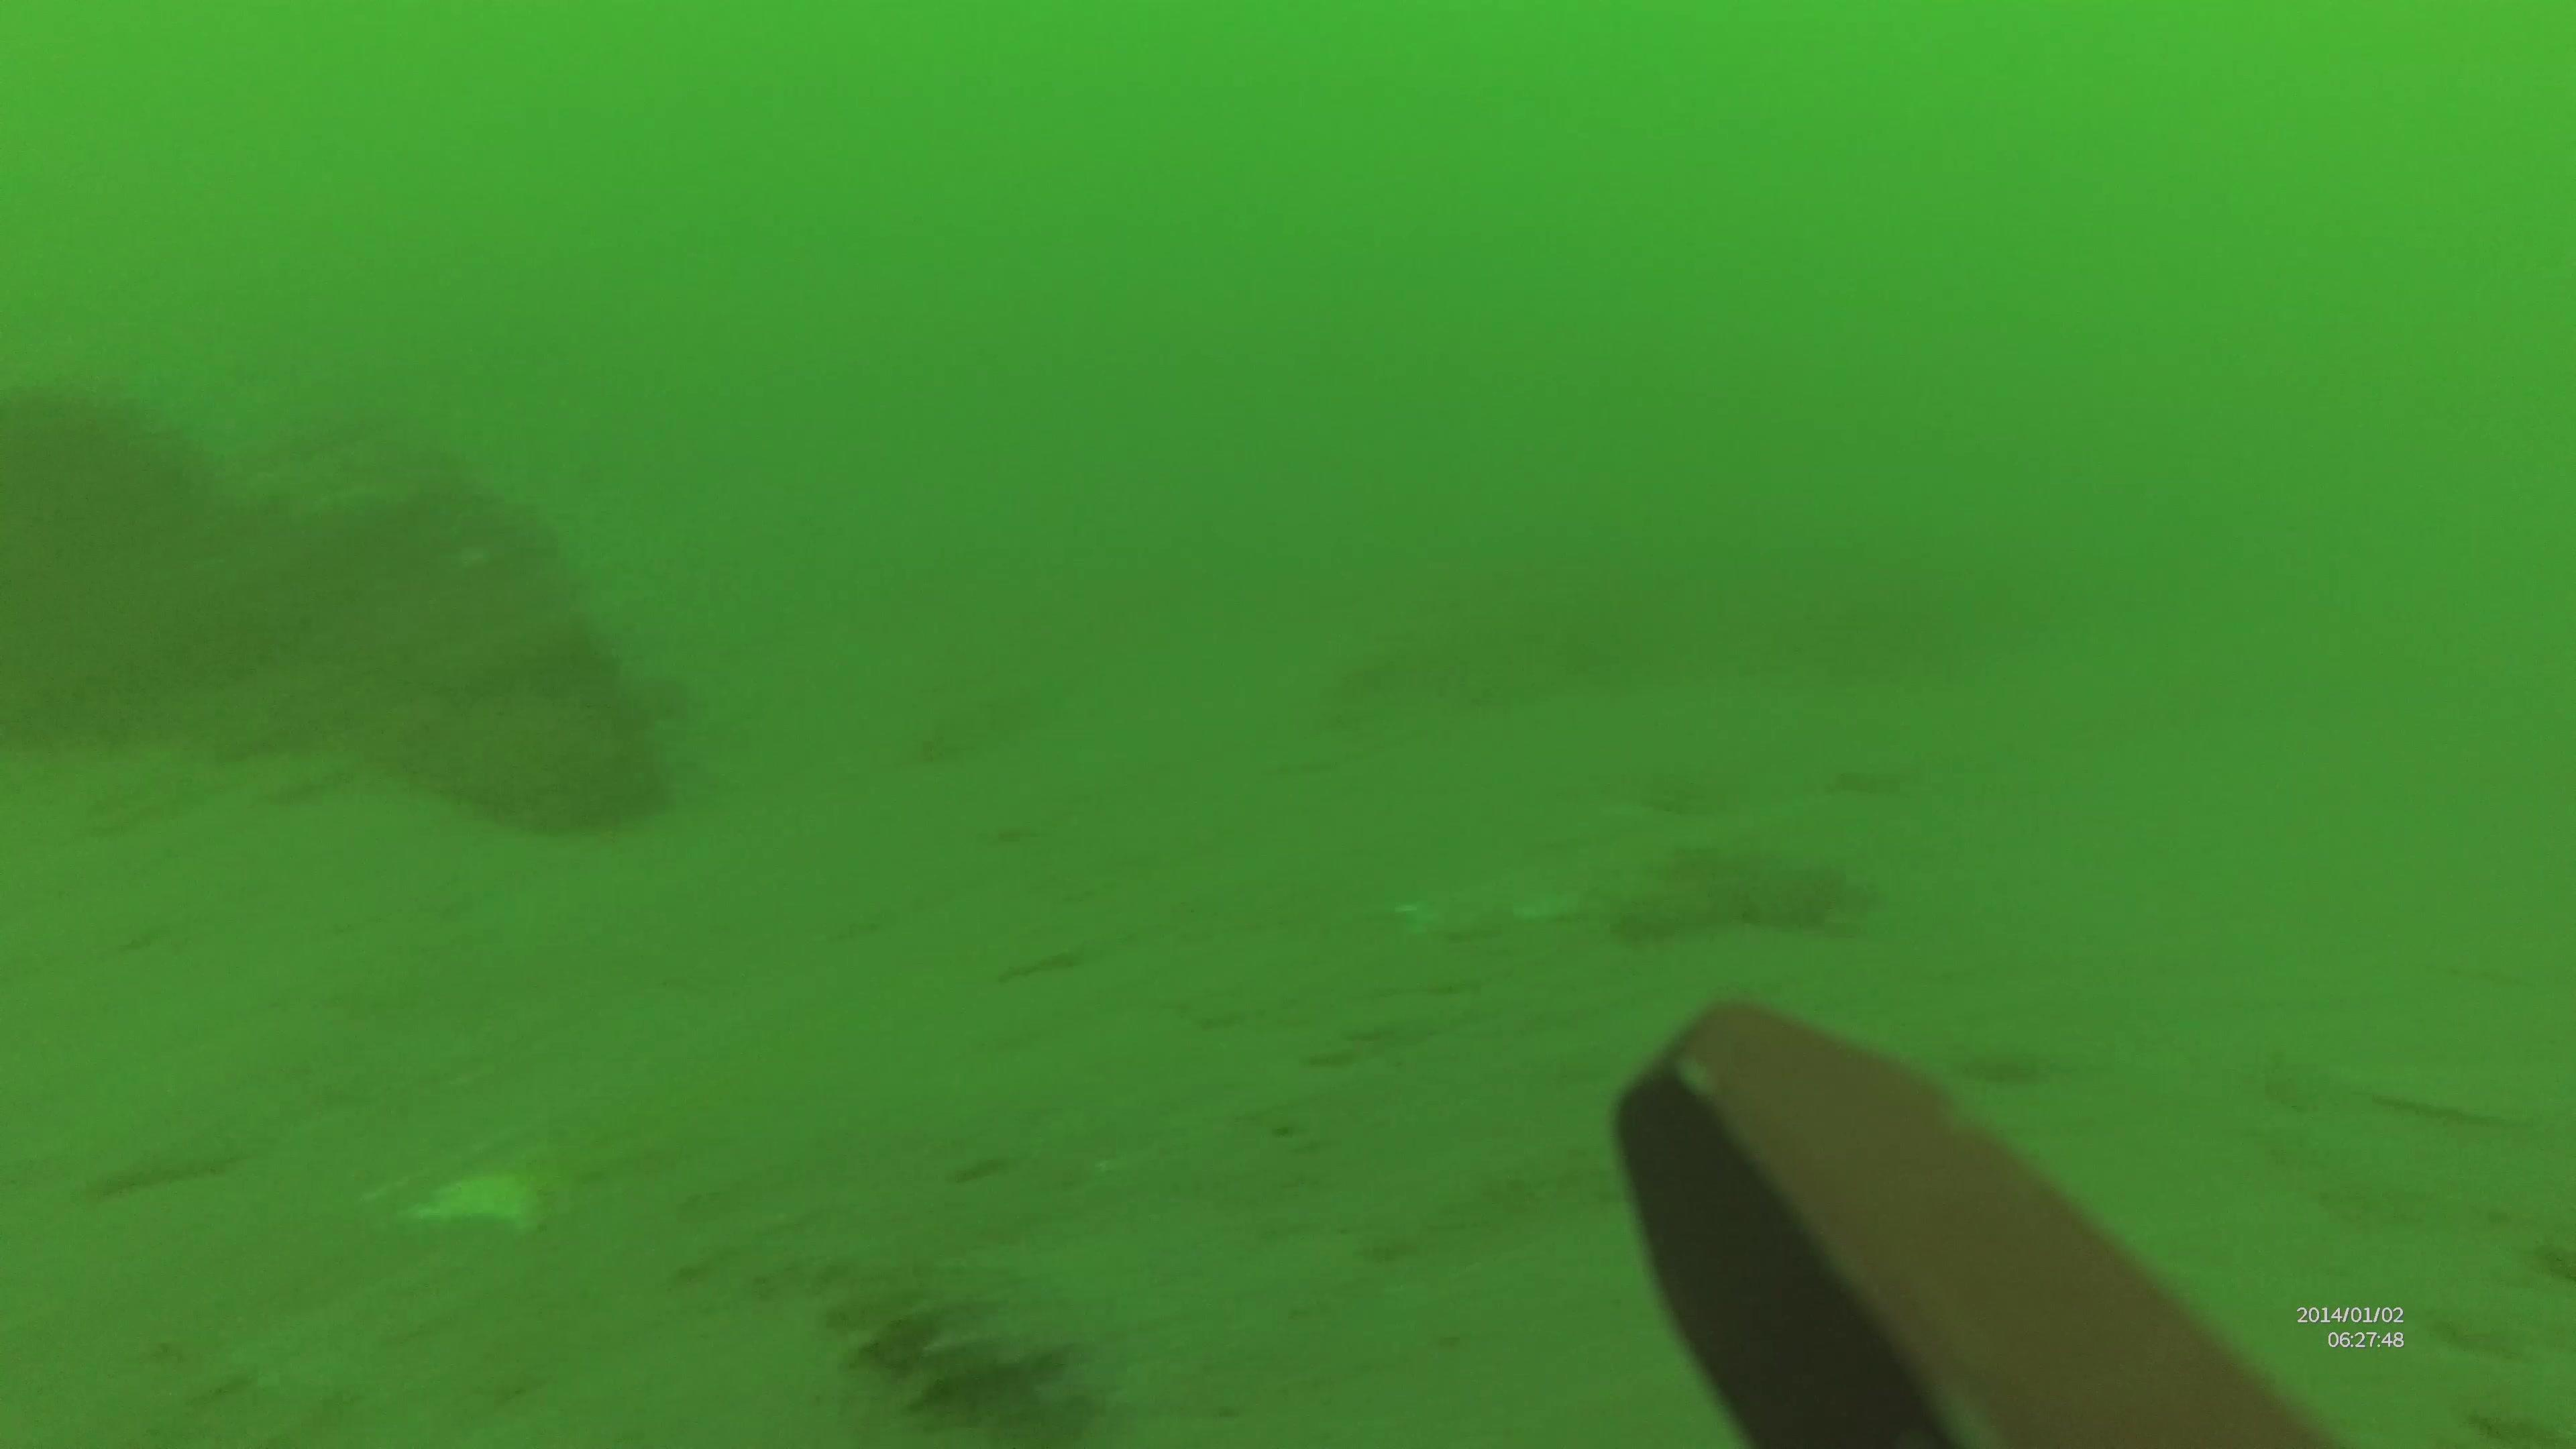holothurian: (798, 1253, 1093, 1440)
